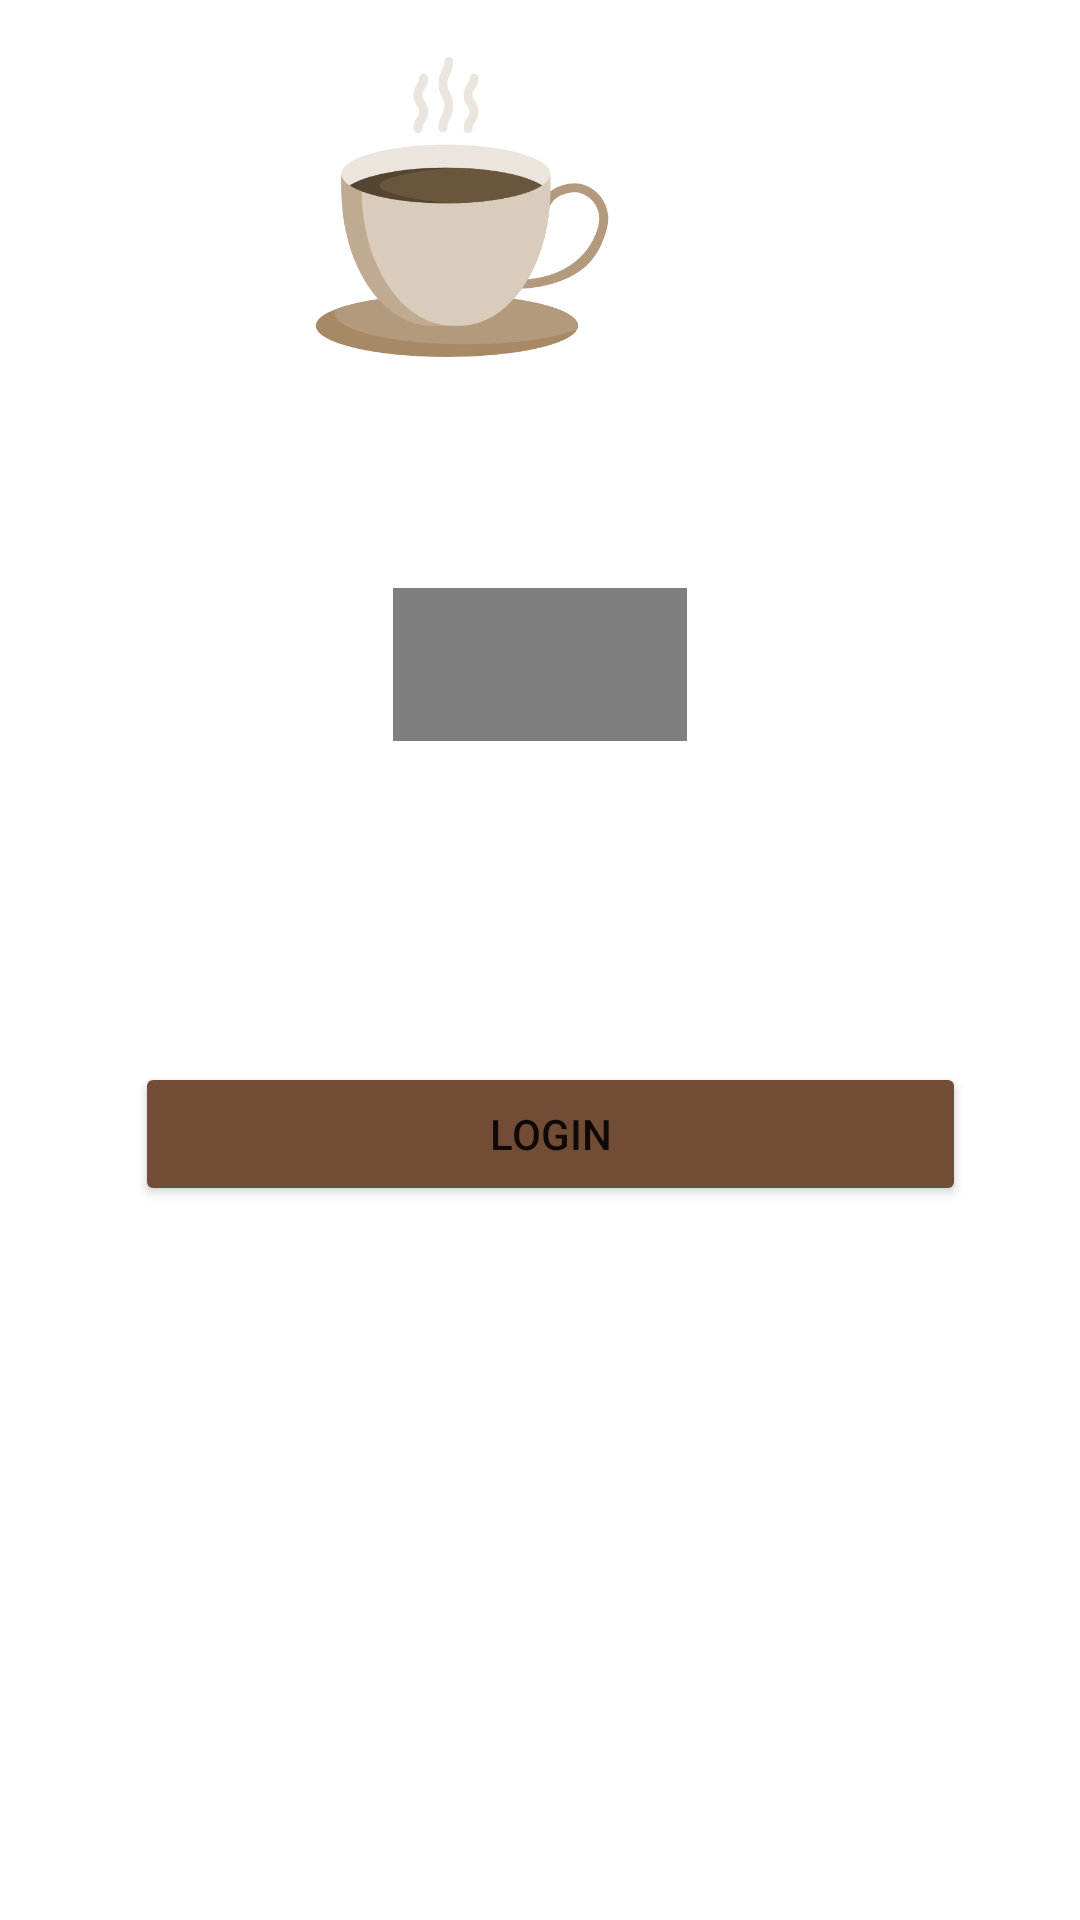

Point at icon controls on the screen. Image size 1080px×1920px, points as point (x, y).
coffee: point (462, 207)
